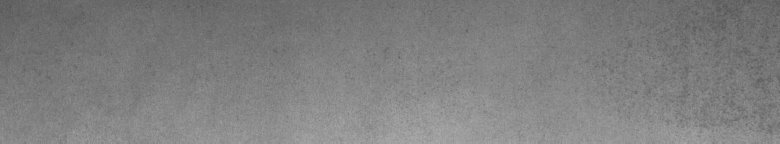ib: (712, 27, 773, 123)
